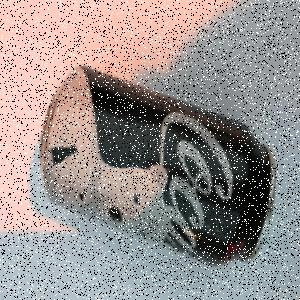Can: (40, 65, 278, 269)
